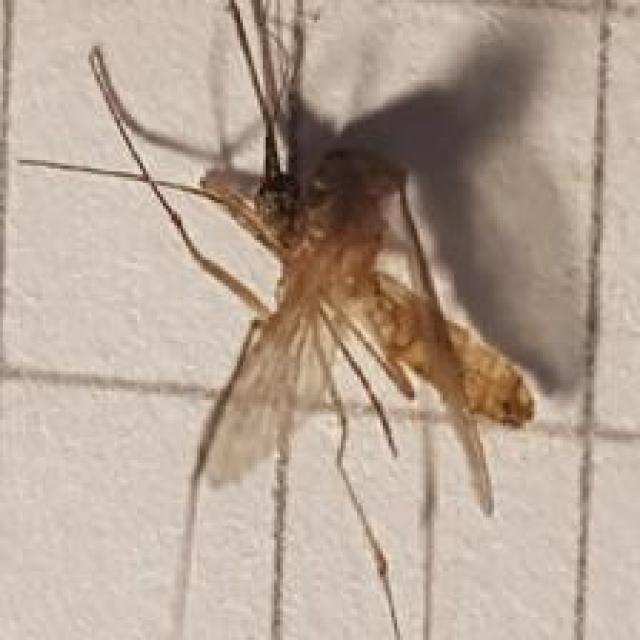Culex: (16, 0, 550, 640)
